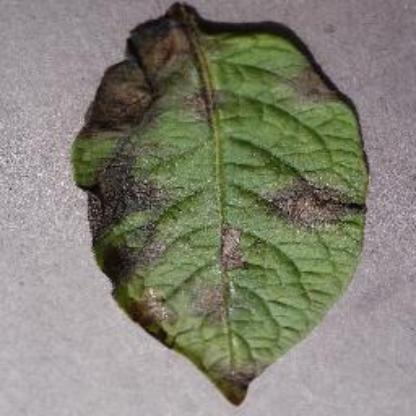Late-Blight: (66, 18, 382, 406)
